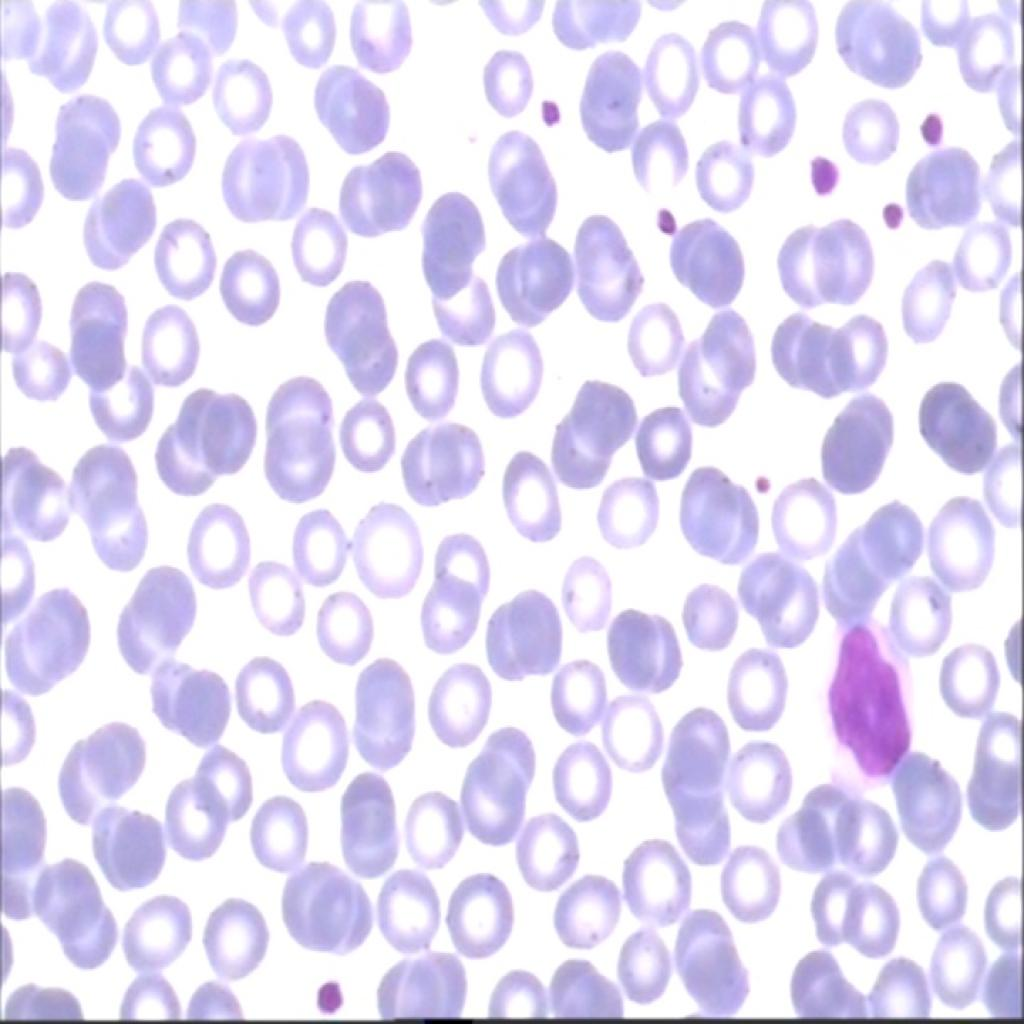Monosit: (809, 615, 926, 797)
Platelet: (798, 142, 845, 214), (304, 966, 347, 1022), (647, 188, 683, 252), (870, 194, 916, 244), (528, 91, 569, 142), (912, 99, 948, 153), (747, 466, 775, 505)
